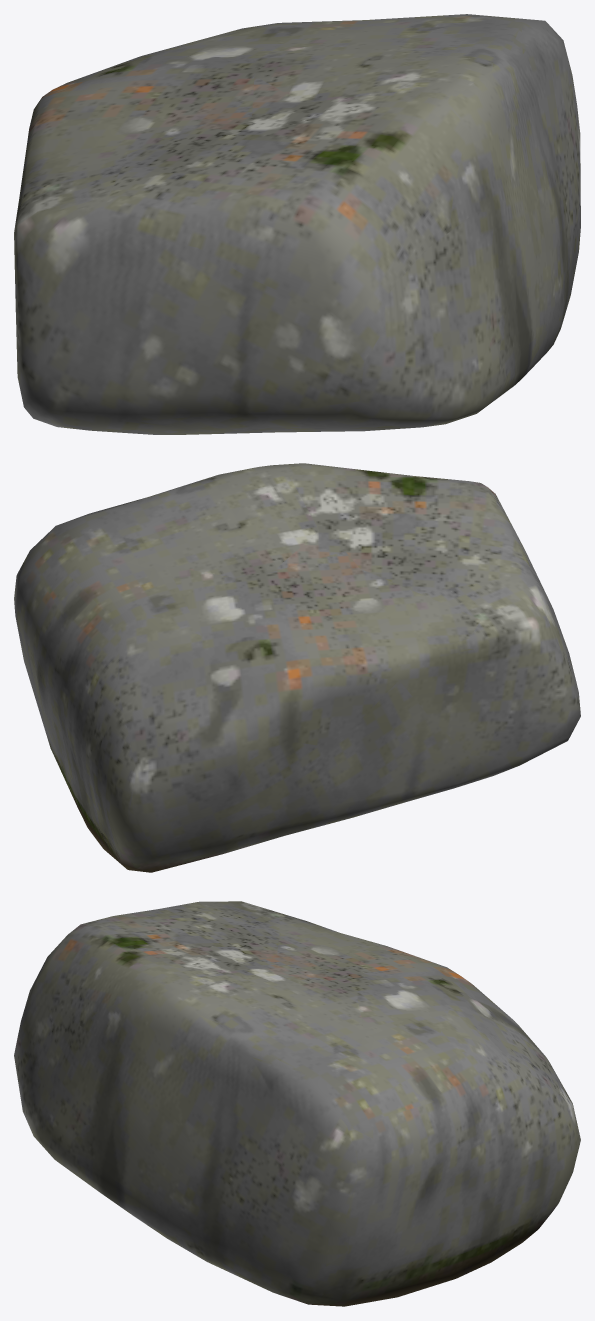
File: LimestoneBoulder.glb
The picture shows the model from 3 angles, top to bottom: view 1: azimuth 30°, elevation 25°; view 2: azimuth 150°, elevation 25°; view 3: azimuth 270°, elevation 25°; orthographic projection. The views are drawn at different scales.
Visible parts, largest first — view 1: boulder_3; view 2: boulder_3; view 3: boulder_3.
Boxes of the visible parts, x1=… form: boulder_3: x1=14, y1=14, x2=580, y2=434; boulder_3: x1=14, y1=463, x2=580, y2=872; boulder_3: x1=14, y1=901, x2=580, y2=1306.
Size of the model in its own units: 1.47 by 0.7809 by 1.49.
Materials: 1 (1 with a texture image).
